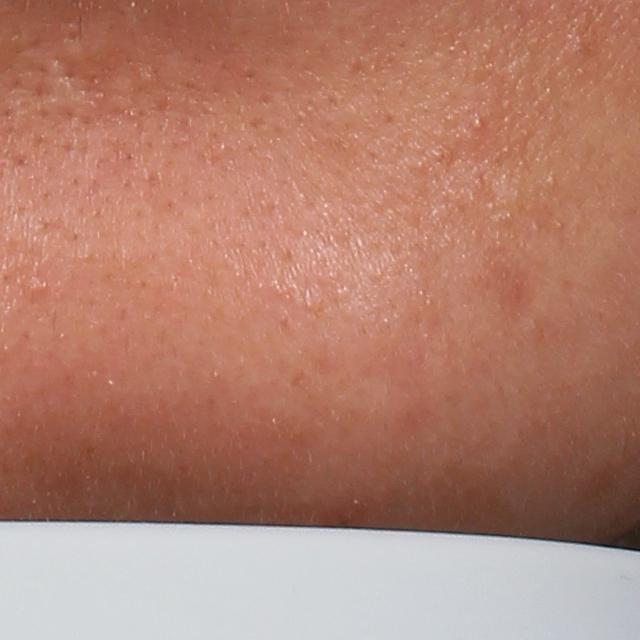comedo: (470, 114, 482, 131)
